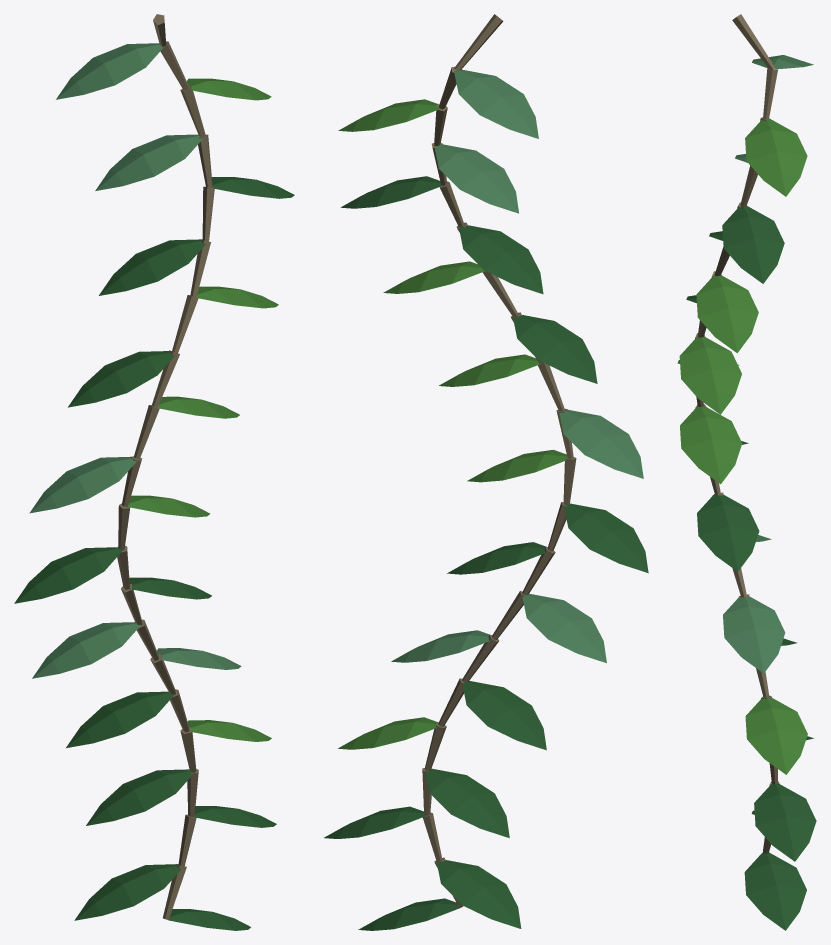
Rendered from vine_strand_module.glb.
3 renders of one model, left to right at view 1: azimuth 30°, elevation 25°; view 2: azimuth 150°, elevation 25°; view 3: azimuth 270°, elevation 25°, orthographic. The views are drawn at different scales.
Visible parts, largest first — view 1: vine_strand_module; view 2: vine_strand_module; view 3: vine_strand_module.
Boxes of the visible parts, x1,y1,x2,y2 form: vine_strand_module: [14, 14, 294, 930]; vine_strand_module: [324, 14, 648, 930]; vine_strand_module: [677, 14, 816, 930].
Bounding box in the file's own units: 0.6525 × 1.99 × 0.2905.
